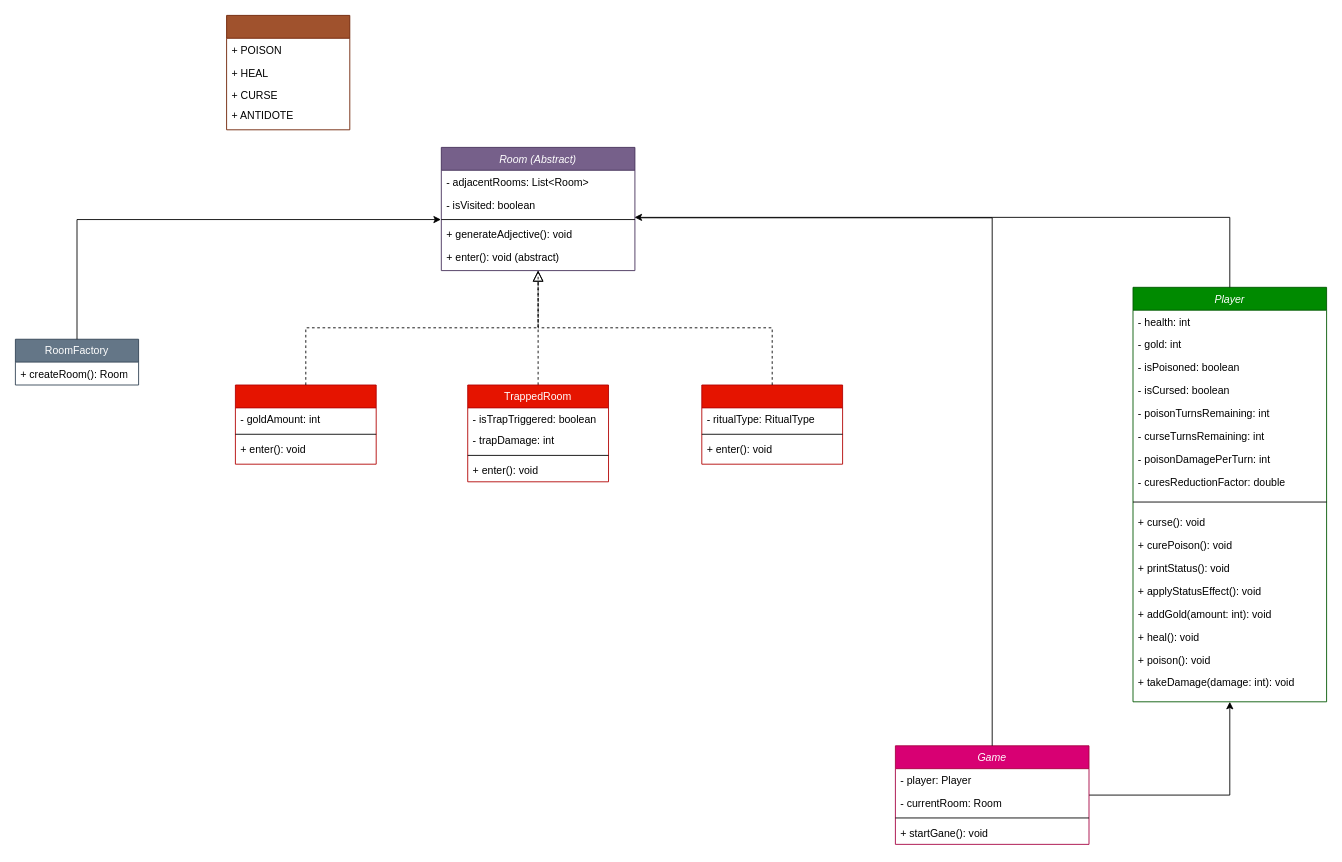
Image size: 1342x862. Some labels were removed from this diagram. Here are the shapes that lost their labels. From the top down, the box of each, then its label:
(226, 15, 350, 130): RitualType (Enum)
(235, 384, 376, 464): TreasureRoom
(701, 384, 843, 464): RitualRoom
